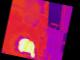Foc: (2, 24, 46, 60)
